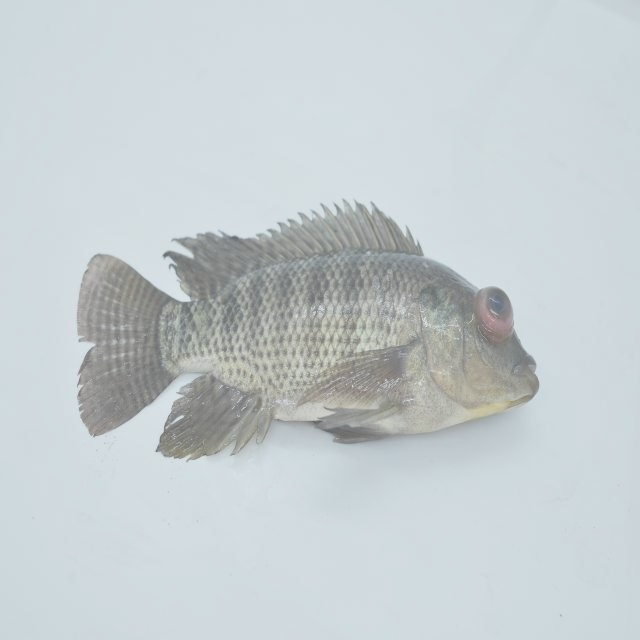streptococcus Disease: (75, 205, 543, 459)
